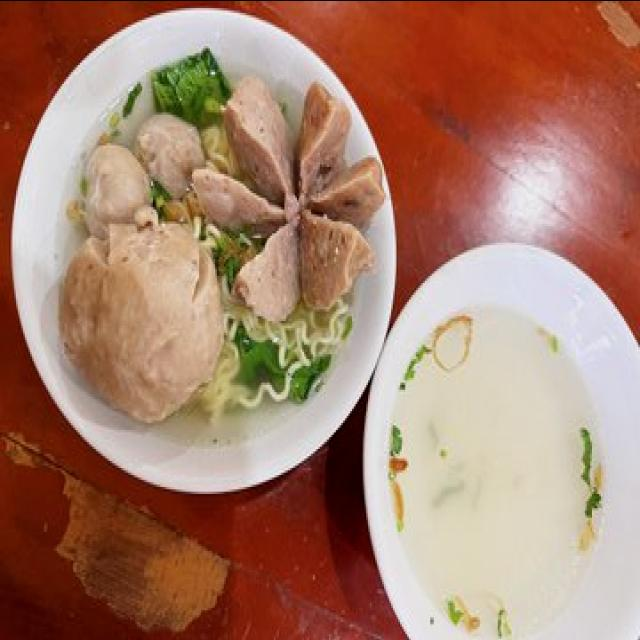bakso: (50, 47, 384, 427)
